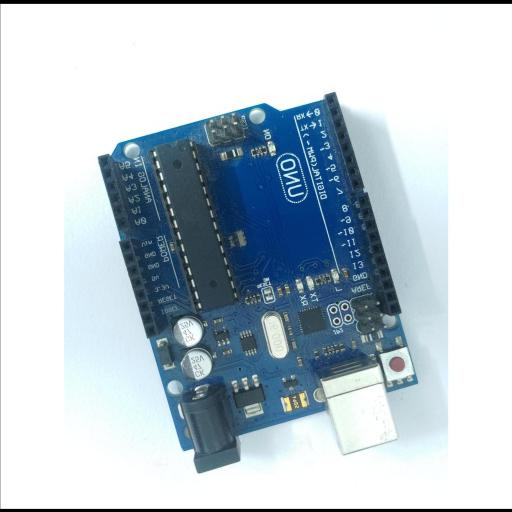Arduino Uno R3: (96, 91, 420, 473)
